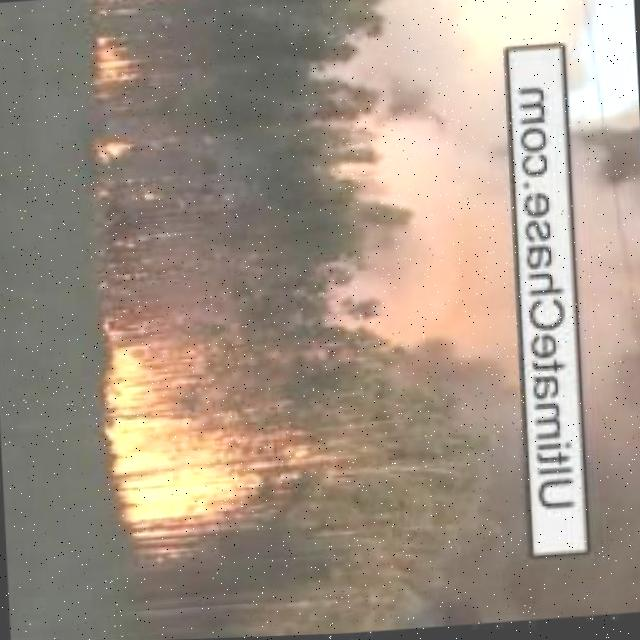fire: (101, 325, 279, 564), (88, 28, 144, 92), (95, 131, 138, 169)
